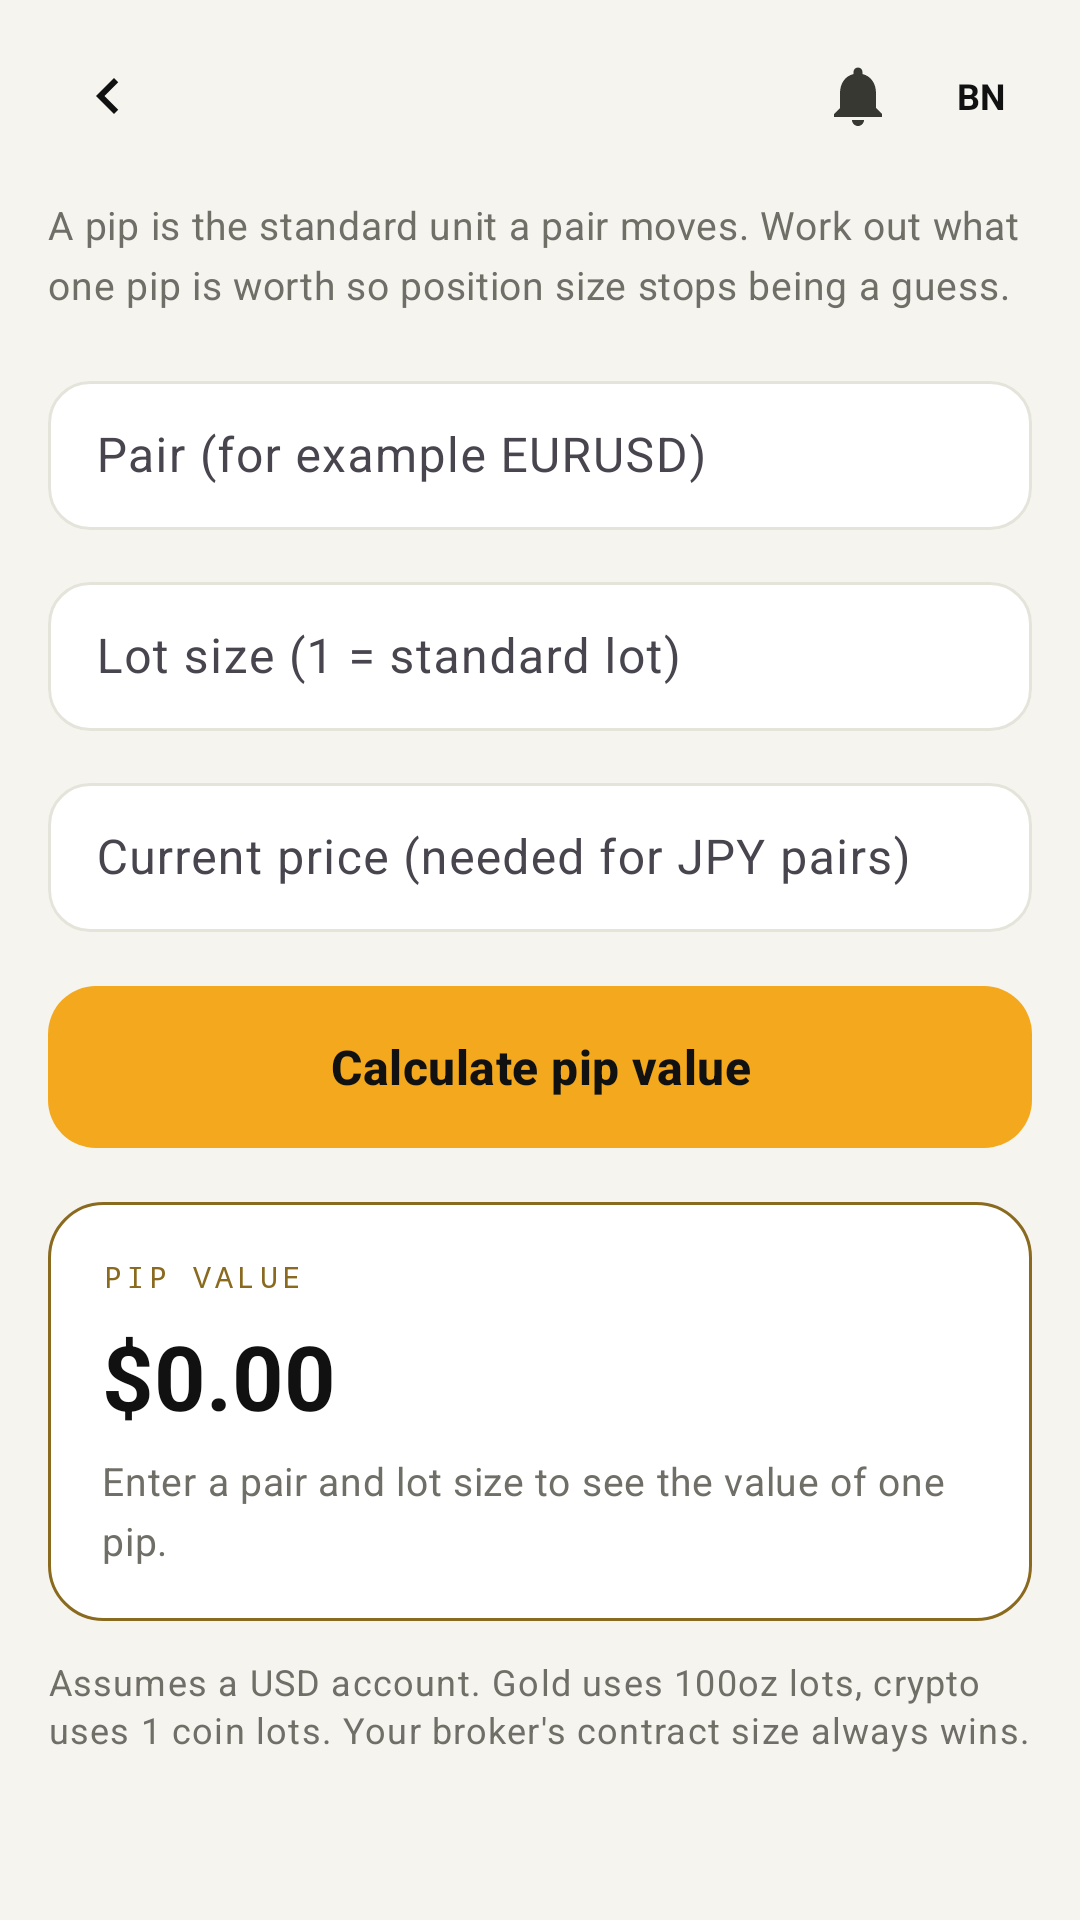

Where icons sit on this 1080*1920 app screen, as (x1, y1, x2, y2):
Back: (96, 78, 118, 114)
Notifications: (834, 67, 882, 126)
